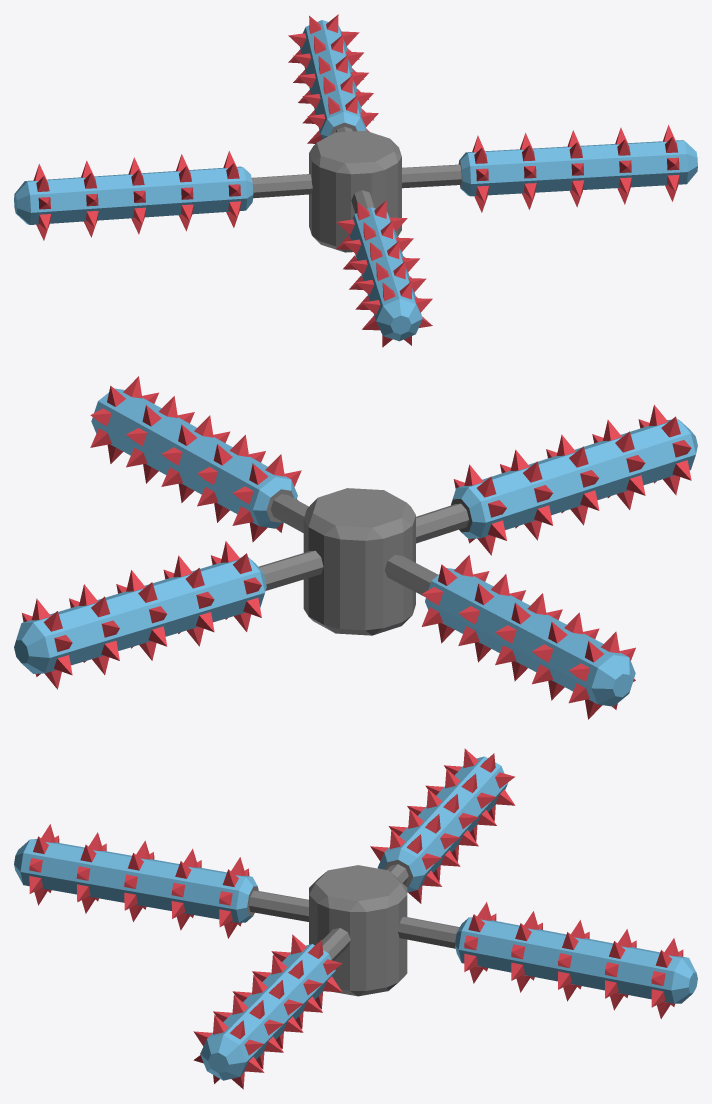
Rendered from obstacle14.fbx.
The picture shows the model from 3 angles, top to bottom: view 1: azimuth 30°, elevation 25°; view 2: azimuth 150°, elevation 25°; view 3: azimuth 270°, elevation 25°; orthographic projection. The views are drawn at different scales.
Parts seen in each view (by area): view 1: obstacle14; view 2: obstacle14; view 3: obstacle14.
Part boxes in pixels (bbox=[...]): obstacle14: bbox=[14, 14, 697, 347]; obstacle14: bbox=[14, 376, 697, 719]; obstacle14: bbox=[14, 748, 697, 1089].
Bounding box in the file's own units: 163 × 24.78 × 161.
